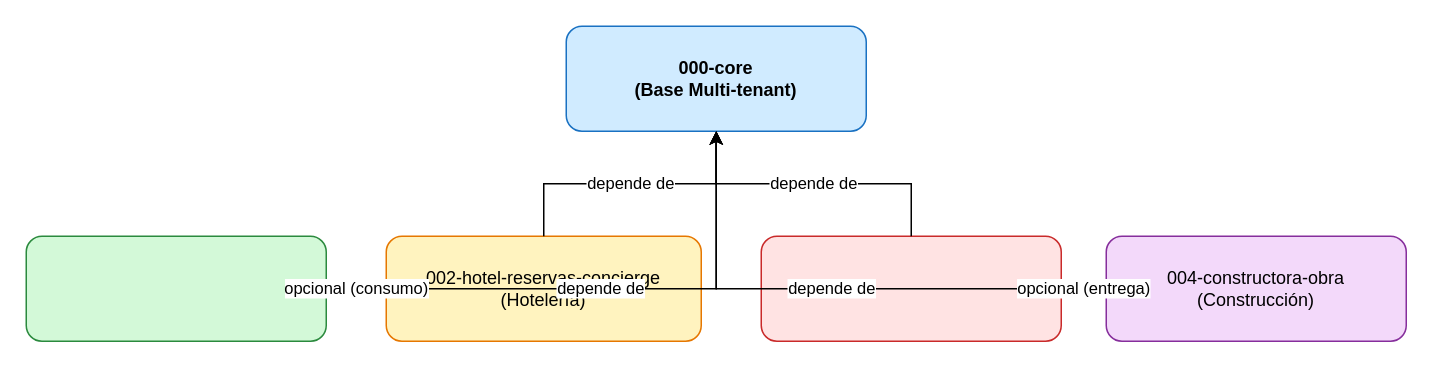
Image size: 1433x368. Some labels were removed from this diagram. Each missing label, with the centre of its shape:
001-cafeteria-mesas-pos (Gastronomía): point (175, 288)
003-inmobiliaria-comercial (Inmobiliaria): point (910, 288)
